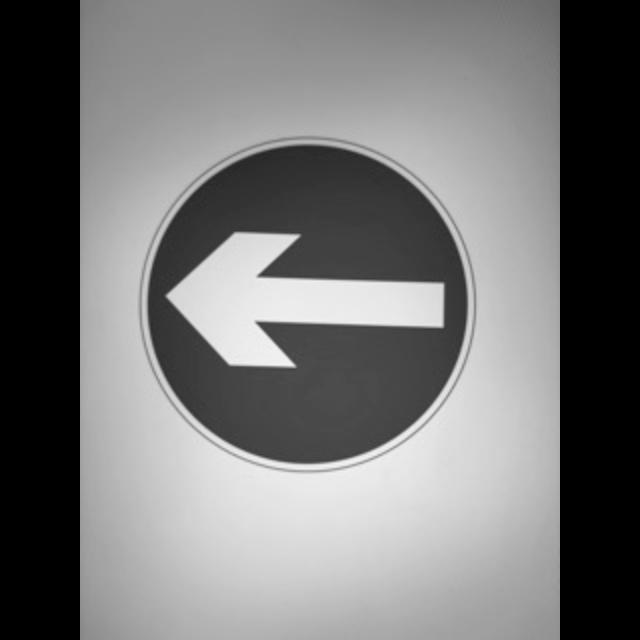TURN LEFT: (136, 130, 480, 476)
